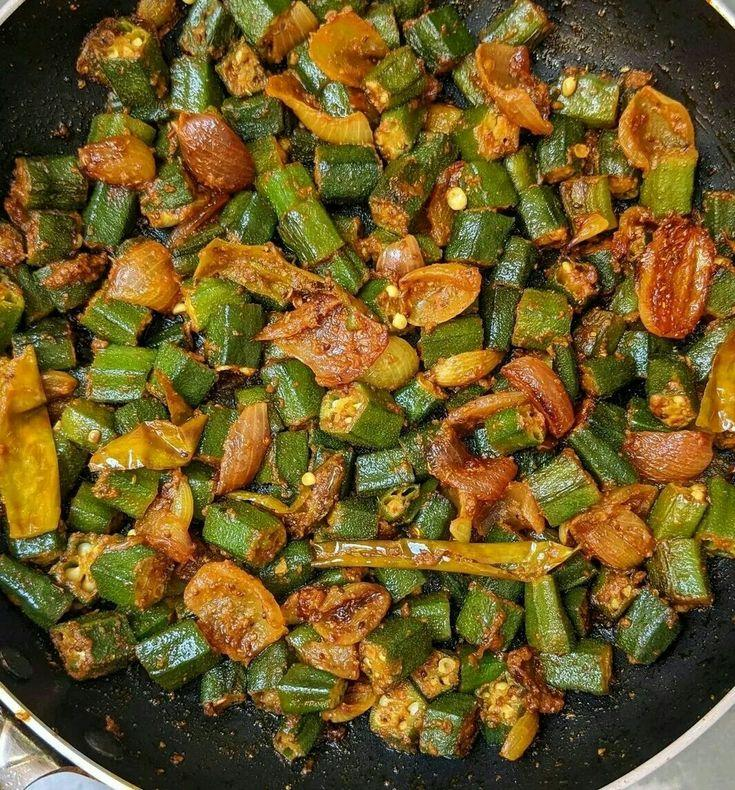bhindi: (78, 7, 735, 686)
